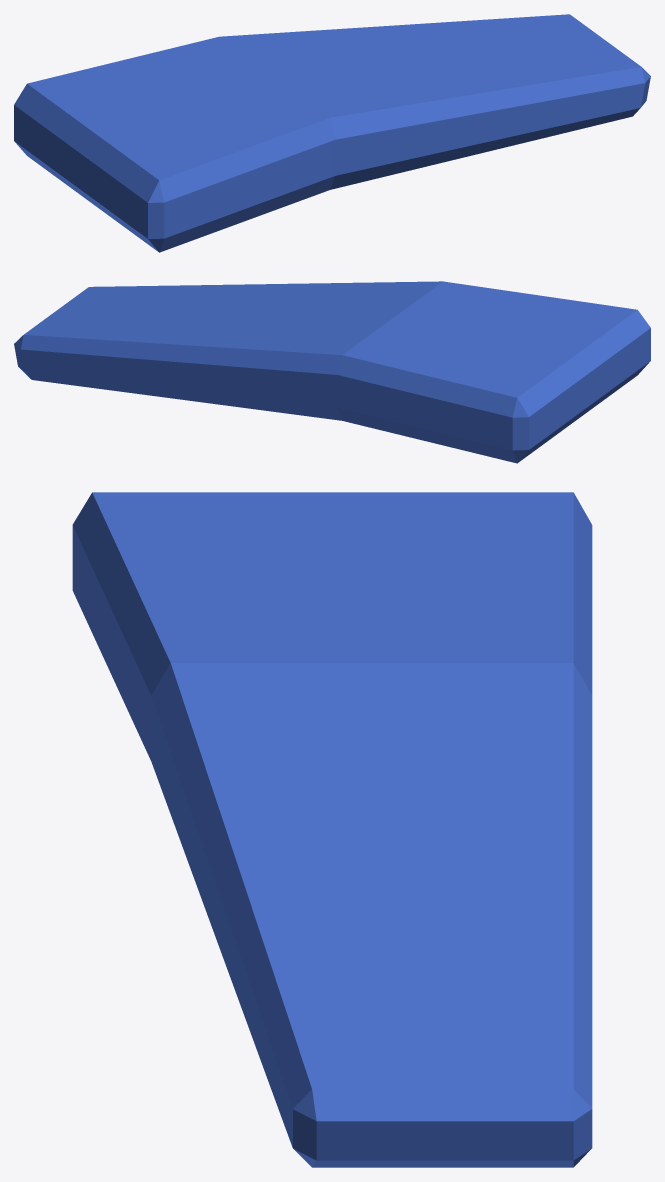
File: Personal_Vehicle_03_Wings_Left_Blue.fbx
3 renders of one model, top to bottom at view 1: azimuth 30°, elevation 25°; view 2: azimuth 150°, elevation 25°; view 3: azimuth 270°, elevation 25°, orthographic. The views are drawn at different scales.
Visible parts, largest first — view 1: Personal_Vehicle_03_Wings_Left_Blue; view 2: Personal_Vehicle_03_Wings_Left_Blue; view 3: Personal_Vehicle_03_Wings_Left_Blue.
Boxes of the visible parts, bbox=[...] form: Personal_Vehicle_03_Wings_Left_Blue: bbox=[14, 14, 650, 252]; Personal_Vehicle_03_Wings_Left_Blue: bbox=[14, 281, 650, 463]; Personal_Vehicle_03_Wings_Left_Blue: bbox=[72, 492, 592, 1167].
Bounding box in the file's own units: 76.65 × 14.31 × 33.49.
1 material, 1 textured.
